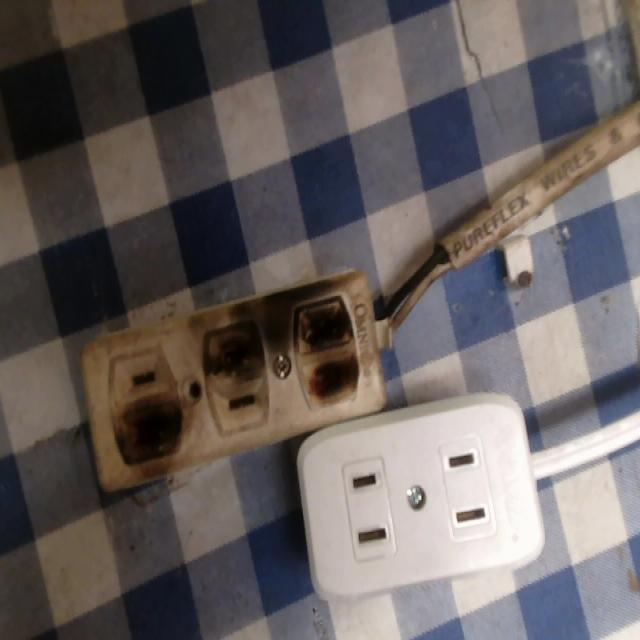-: (292, 291, 373, 404), (101, 392, 190, 464), (205, 311, 266, 373)
